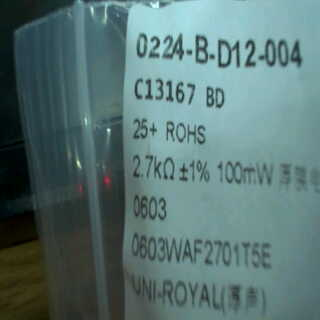2.7kR: (126, 147, 179, 186)
